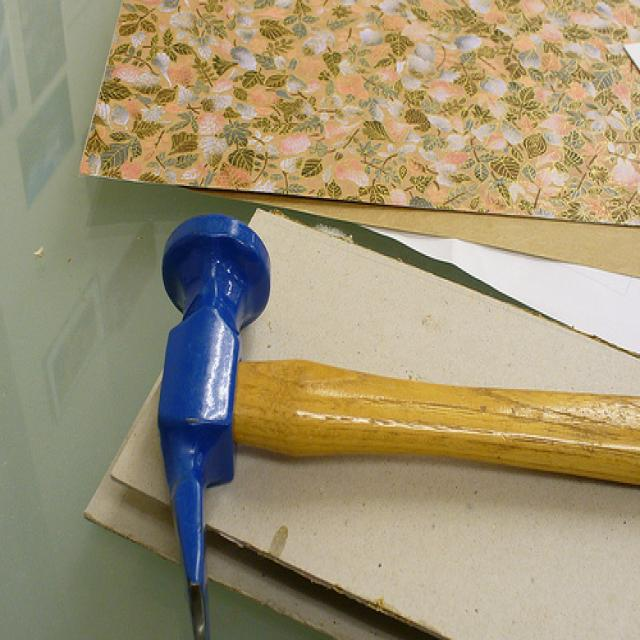hammer: (80, 162, 640, 640)
